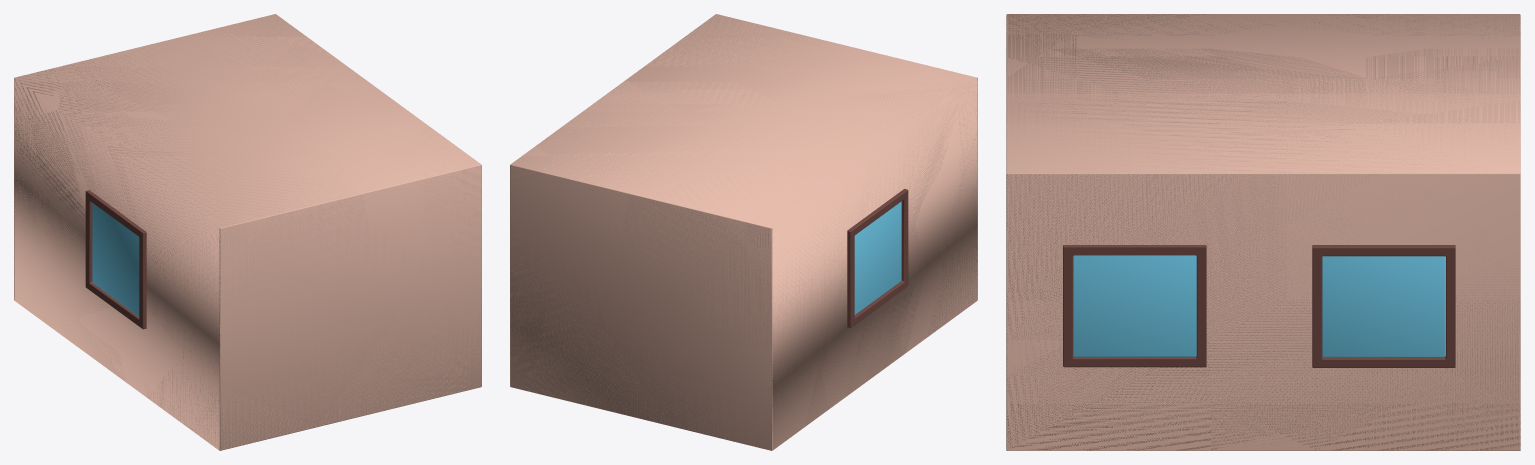
File: houseStorey.fbx
3 renders of one model, left to right at view 1: azimuth 30°, elevation 25°; view 2: azimuth 150°, elevation 25°; view 3: azimuth 270°, elevation 25°, orthographic. The views are drawn at different scales.
Visible parts, largest first — view 1: House.003_Plane.033, Window.005_Plane.053, Window.009_Plane.054; view 2: House.003_Plane.033, Window.005_Plane.053, Window.009_Plane.054; view 3: House.003_Plane.033, Window.006_Plane.047, Window.008_Plane.051, Window.004_Plane.036, Window.003_Plane.035.
Part boxes in pixels (x1,y1,x2,y2): House.003_Plane.033: (14, 14, 481, 450); Window.005_Plane.053: (92, 203, 139, 316); Window.009_Plane.054: (85, 190, 146, 329); House.003_Plane.033: (510, 14, 977, 450); Window.005_Plane.053: (854, 201, 901, 314); Window.009_Plane.054: (847, 189, 908, 327); House.003_Plane.033: (1006, 14, 1520, 450); Window.006_Plane.047: (1073, 255, 1196, 356); Window.008_Plane.051: (1322, 256, 1445, 357); Window.004_Plane.036: (1312, 245, 1455, 367); Window.003_Plane.035: (1063, 245, 1206, 367).
Size of the model in its own units: 398 by 314 by 526.
